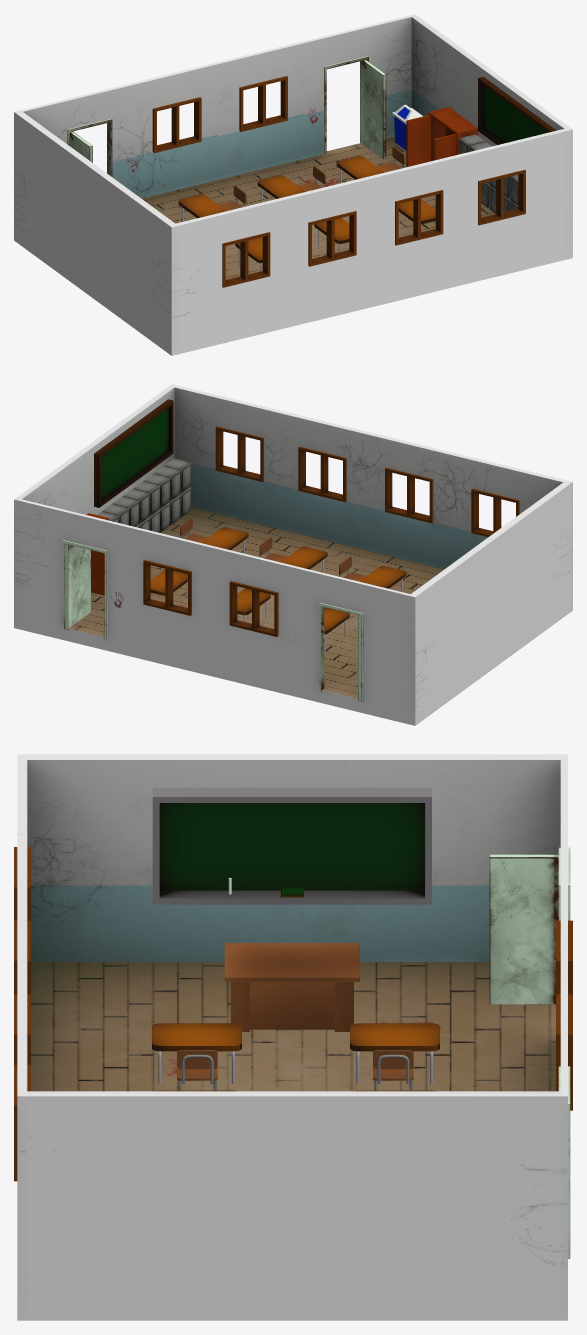
The model's file is classroom1.fbx.
The picture shows the model from 3 angles, top to bottom: view 1: azimuth 30°, elevation 25°; view 2: azimuth 150°, elevation 25°; view 3: azimuth 270°, elevation 25°; orthographic projection. The views are drawn at different scales.
Visible parts, largest first — view 1: classroom, Cube.014, Cylinder.004, Cube.011, Cube.007, Cube.015, Cube.004, Cube.003, Cube.001, Cube.013; view 2: classroom, Cube.014, Cube.011, Cube.004, Cylinder.004, Cube.015, Cube.001, Cube.003, Cube.007; view 3: classroom, Cube.006, Cube.005, Cube.001, Cylinder.004, Cube.014, Cube.003.
Boxes of the visible parts, left/top/right/bottom form: classroom: left=14, top=14, right=572, bottom=355; Cube.014: left=152, top=76, right=525, bottom=287; Cylinder.004: left=178, top=156, right=435, bottom=271; Cube.011: left=478, top=77, right=556, bottom=144; Cube.007: left=406, top=107, right=478, bottom=167; Cube.015: left=324, top=56, right=386, bottom=159; Cube.004: left=459, top=134, right=518, bottom=213; Cube.003: left=219, top=147, right=435, bottom=223; Cube.001: left=67, top=118, right=112, bottom=176; Cube.013: left=392, top=104, right=422, bottom=150; classroom: left=14, top=384, right=572, bottom=725; Cube.014: left=143, top=426, right=519, bottom=636; Cube.011: left=94, top=399, right=173, bottom=507; Cube.004: left=97, top=458, right=190, bottom=532; Cylinder.004: left=150, top=527, right=406, bottom=652; Cube.015: left=62, top=540, right=107, bottom=639; Cube.001: left=319, top=602, right=363, bottom=702; Cube.003: left=150, top=518, right=366, bottom=594; Cube.007: left=86, top=513, right=109, bottom=595; classroom: left=17, top=754, right=567, bottom=1320; Cube.006: left=152, top=787, right=431, bottom=904; Cube.005: left=224, top=943, right=359, bottom=1031; Cube.001: left=489, top=847, right=570, bottom=1004; Cylinder.004: left=152, top=1023, right=439, bottom=1091; Cube.014: left=14, top=847, right=572, bottom=1181; Cube.003: left=177, top=1050, right=413, bottom=1090.
Size of the model in its own units: 579 by 177 by 400.
